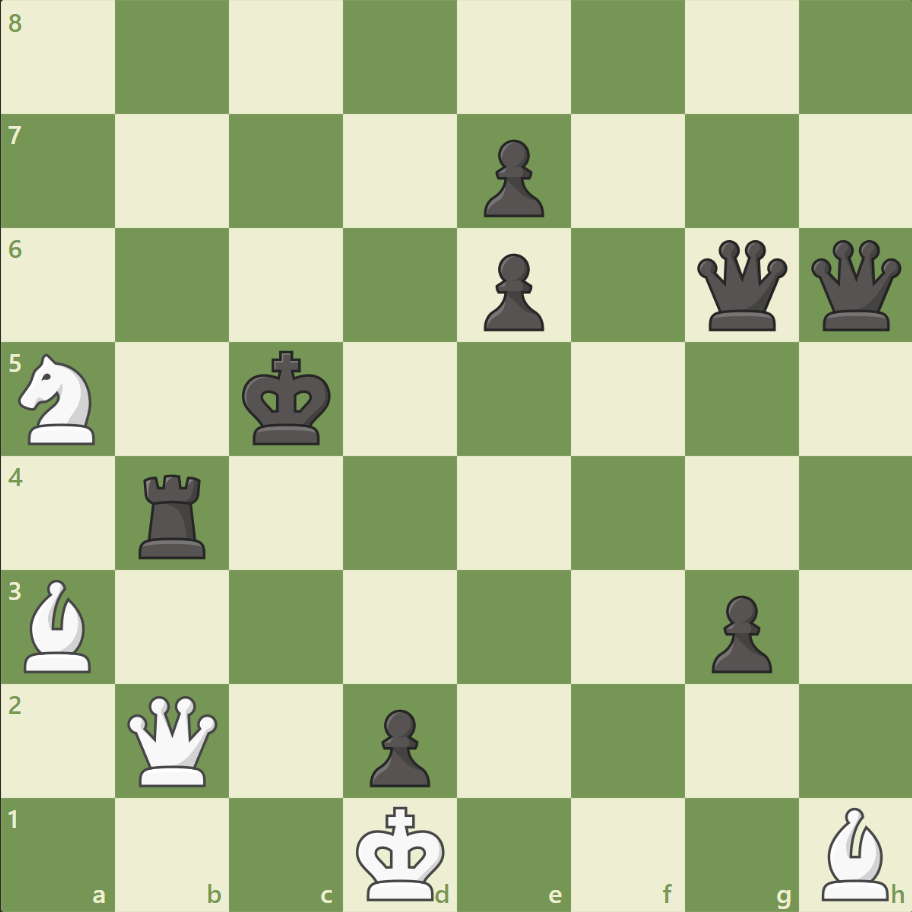B: (812, 801, 896, 904), (17, 574, 101, 676)
K: (351, 798, 451, 906)
N: (11, 348, 108, 450)
Q: (124, 690, 223, 789)
k: (238, 344, 338, 452)
p: (474, 132, 549, 223), (474, 246, 549, 337), (701, 586, 776, 677), (361, 700, 435, 791)
q: (691, 236, 790, 335), (805, 236, 904, 335)
r: (133, 466, 215, 563)
